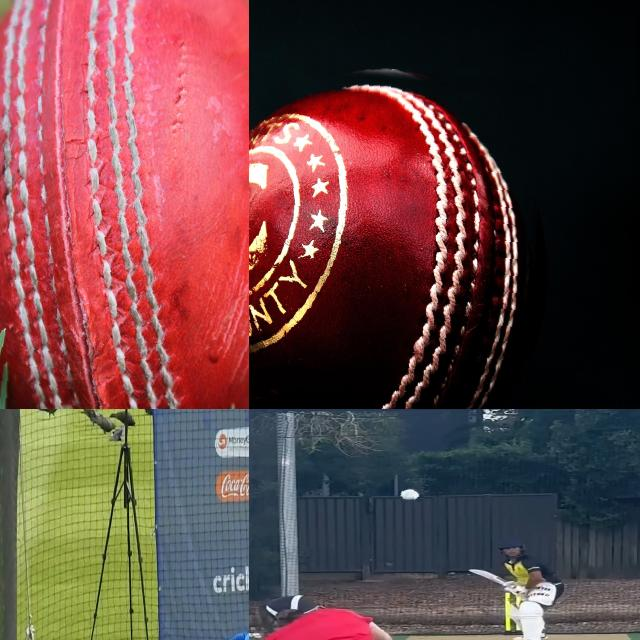Cricket ball: (249, 52, 545, 409), (0, 0, 249, 409), (397, 486, 424, 502)
